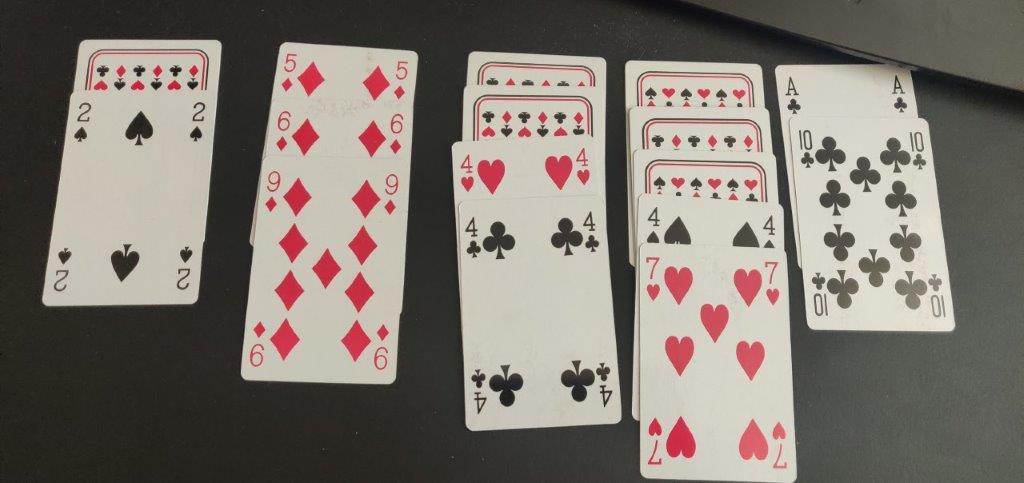10C: (907, 128, 932, 172), (796, 125, 819, 172)
2S: (68, 102, 96, 146), (188, 101, 208, 146)
4C: (459, 212, 484, 262), (581, 209, 602, 259)
4H: (573, 144, 596, 190), (455, 151, 477, 195)
4S: (644, 201, 663, 244), (761, 211, 777, 252)
5D: (278, 51, 298, 93), (392, 57, 410, 101)
6D: (273, 107, 293, 150), (388, 111, 404, 156)
7H: (641, 253, 665, 302), (763, 258, 783, 307)
9D: (262, 167, 284, 215), (379, 170, 402, 215)
AC: (783, 70, 804, 117), (890, 72, 910, 115)
